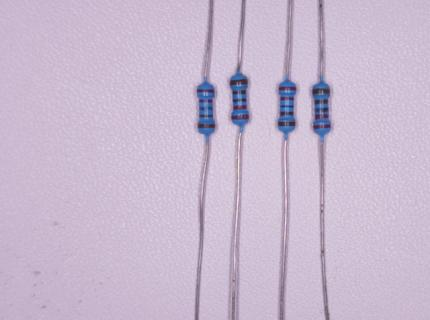Black band: (314, 107, 329, 113), (233, 98, 247, 102), (280, 105, 294, 108), (200, 107, 212, 110)
Brown band: (230, 79, 247, 85), (278, 122, 295, 127), (315, 99, 329, 105), (314, 89, 330, 94), (232, 90, 246, 95), (198, 124, 215, 128), (200, 114, 213, 118), (281, 112, 294, 115)
Red band: (313, 124, 331, 129), (232, 115, 249, 120), (278, 87, 296, 91), (314, 115, 329, 119), (200, 99, 213, 103), (234, 105, 247, 109), (281, 97, 294, 101), (197, 89, 214, 92)
